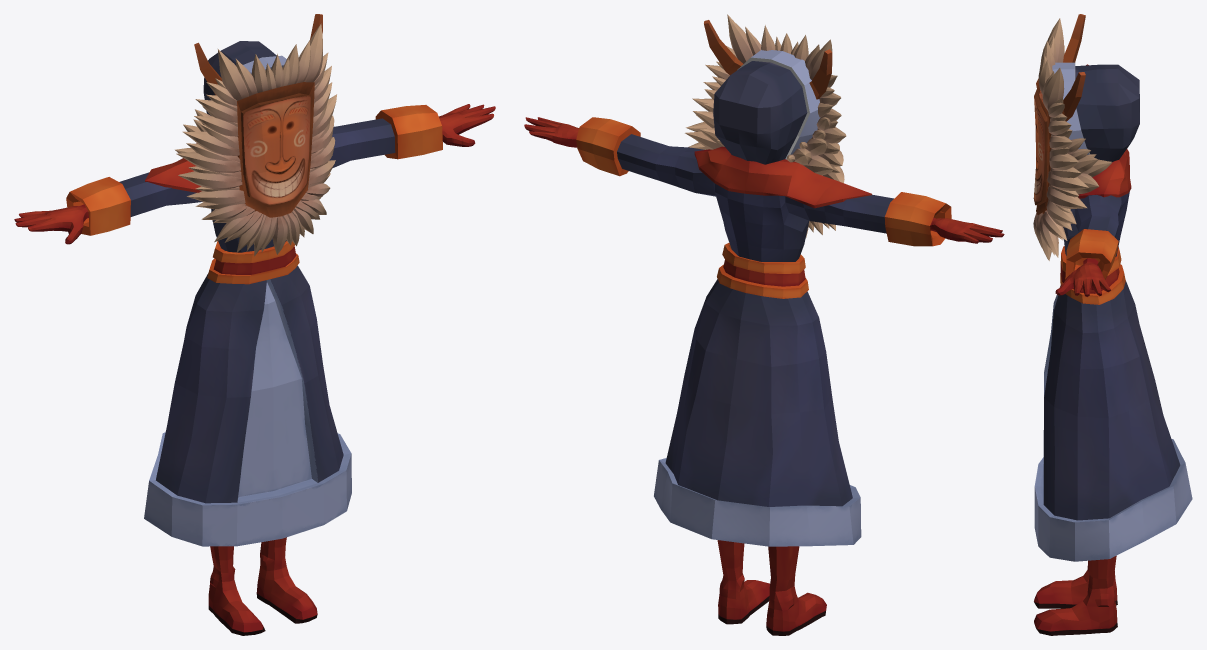
File: Feva.fbx
The picture shows the model from 3 angles, left to right: view 1: azimuth 30°, elevation 25°; view 2: azimuth 150°, elevation 25°; view 3: azimuth 270°, elevation 25°; orthographic projection.
Parts seen in each view (by area): view 1: Feva; view 2: Feva; view 3: Feva.
Boxes of the visible parts, x1,y1,x2,y2 form: Feva: (14,14,495,635); Feva: (524,14,1004,635); Feva: (1033,14,1192,635).
Bounding box in the file's own units: 165 × 191 × 48.18.
